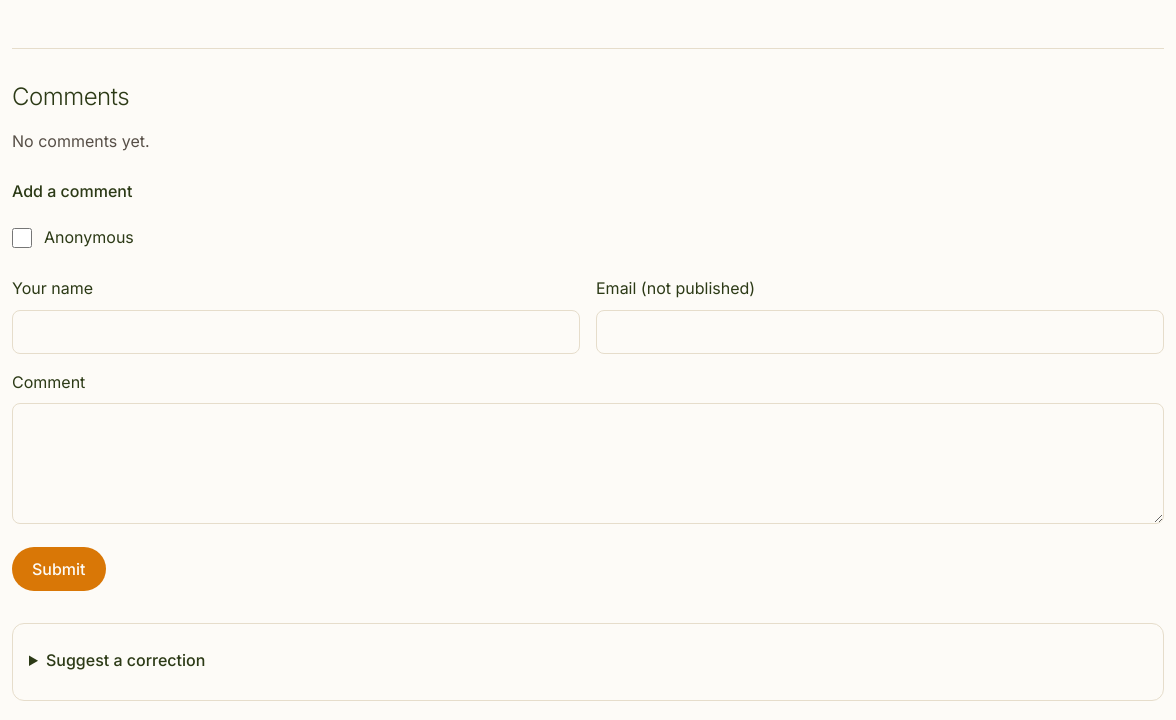
Test: discards identity inputs for an anonymous public comment and never renders an email
Click the checkbox labelled "Anonymous" at (22, 238), box [12,228,32,248]
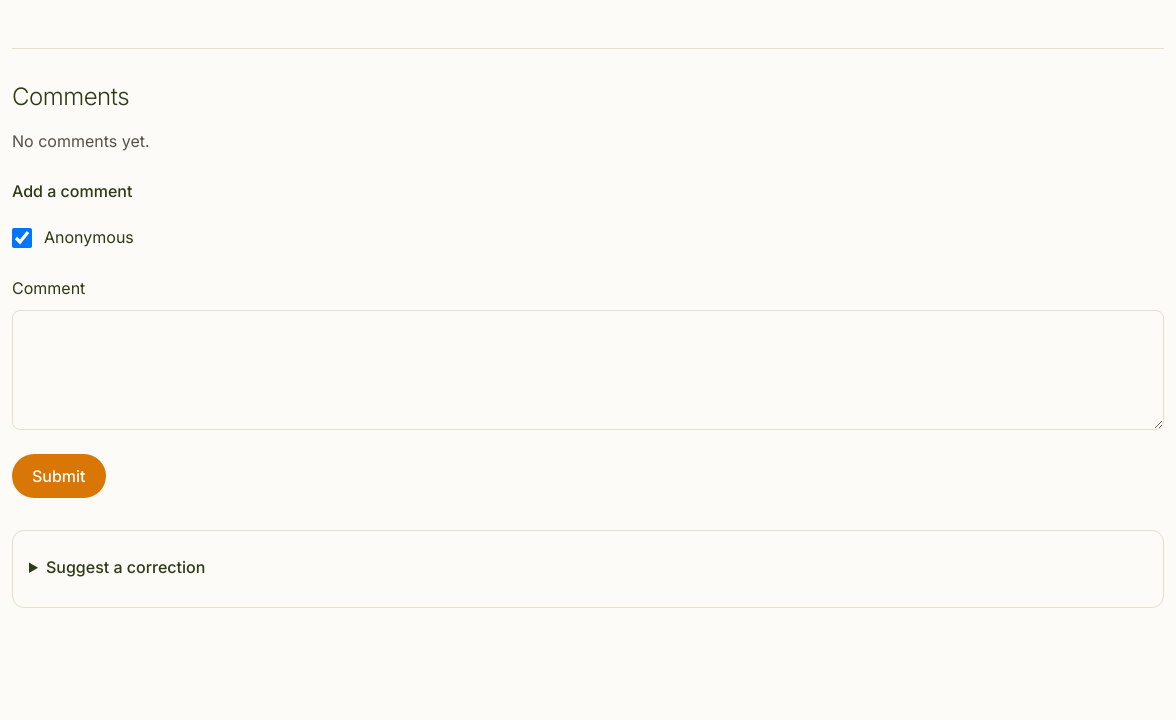
Check: the field is gone
Type "A family memory" into the text box labelled "Comment" at (588, 370), box [12,310,1164,430]
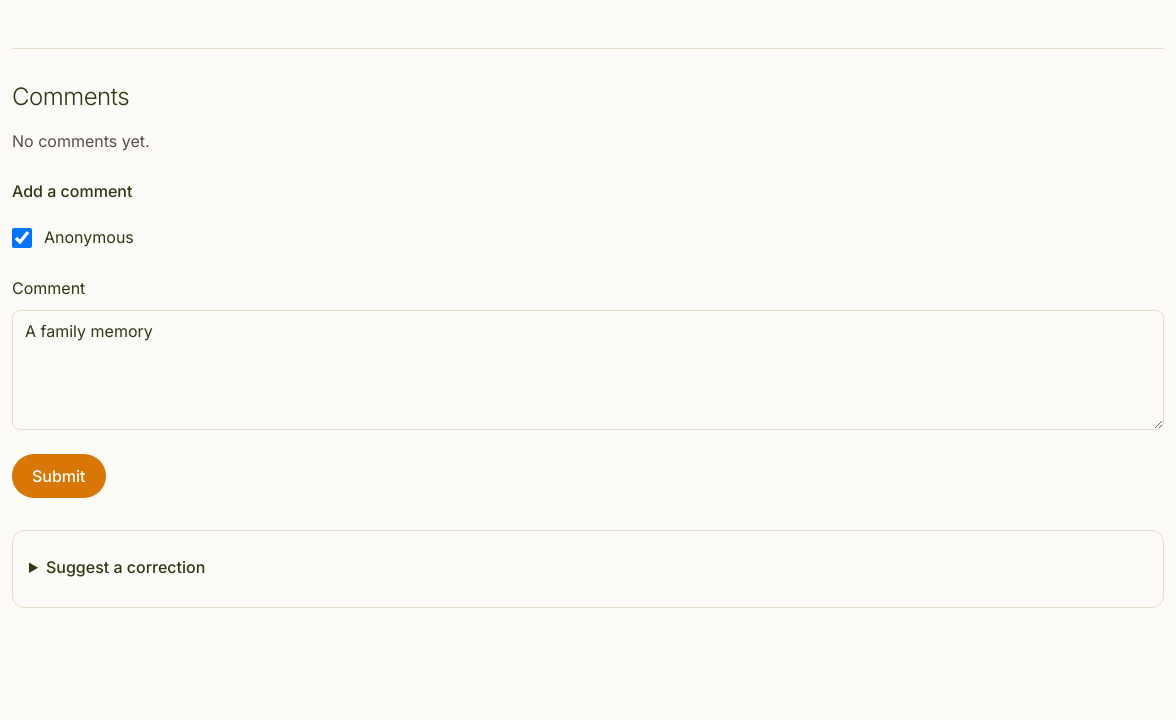
Submit the form "Submit", box [12,179,1164,498]
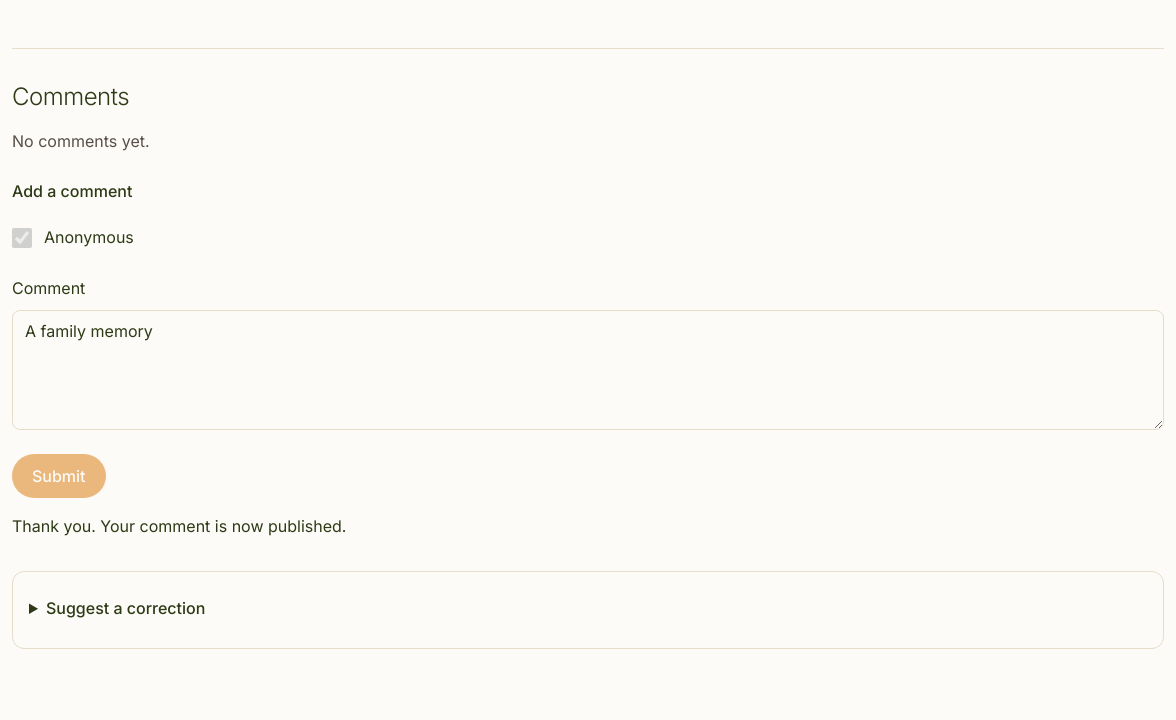
Check: the text "Thank you. Your comment is now published." is shown, box [12,516,346,536]
